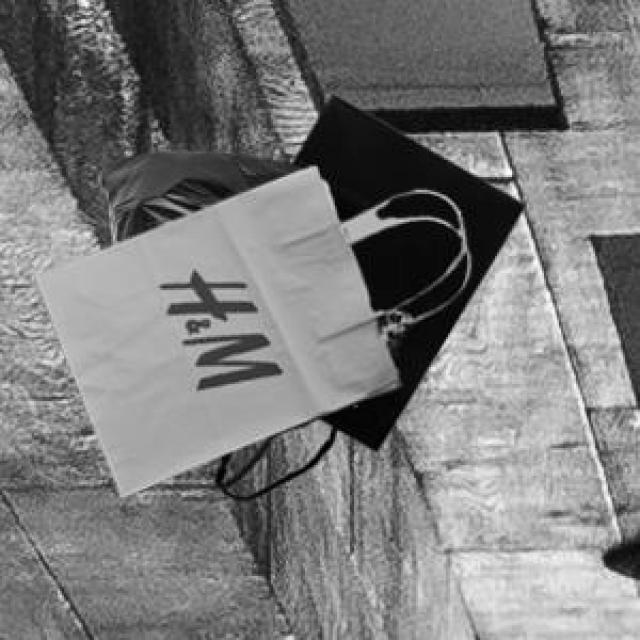miscellaneous trash: (96, 147, 297, 241)
paper: (32, 162, 463, 493), (211, 92, 521, 497)
